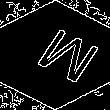M_SW: (17, 22, 93, 88)
